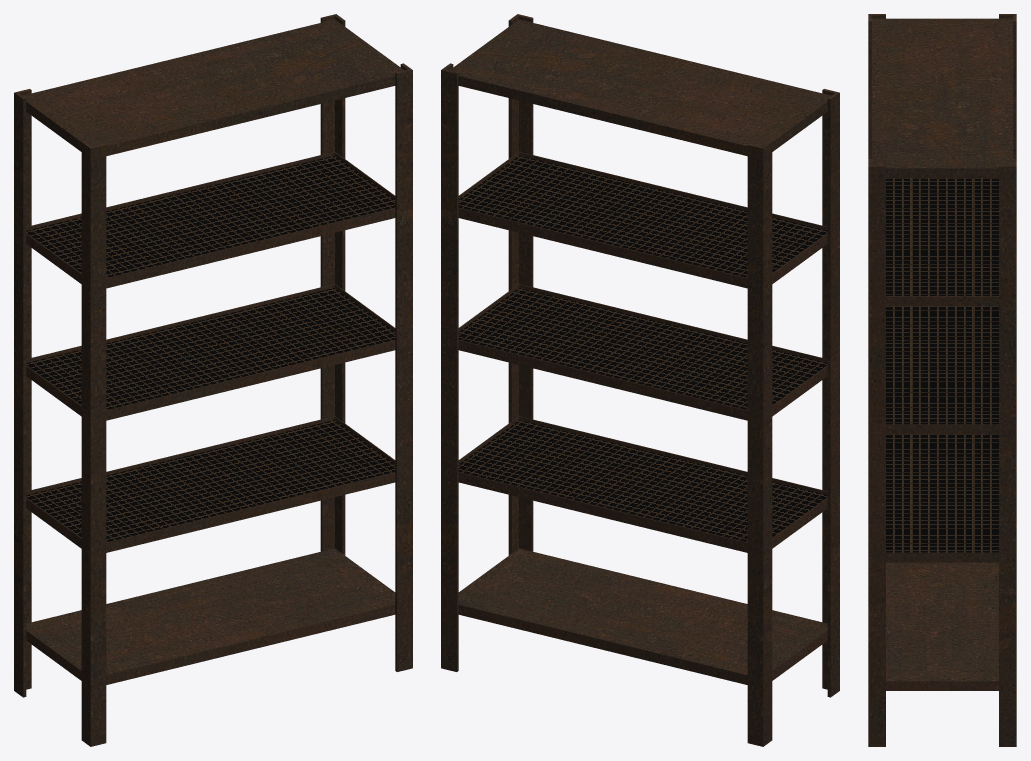
The model's file is shelf_mx_6.glb.
3 renders of one model, left to right at view 1: azimuth 30°, elevation 25°; view 2: azimuth 150°, elevation 25°; view 3: azimuth 270°, elevation 25°, orthographic. The views are drawn at different scales.
Parts seen in each view (by area): view 1: shelf_mx_6; view 2: shelf_mx_6; view 3: shelf_mx_6.
Boxes of the visible parts, x1=… form: shelf_mx_6: x1=14, y1=14, x2=412, y2=746; shelf_mx_6: x1=441, y1=14, x2=839, y2=746; shelf_mx_6: x1=868, y1=14, x2=1016, y2=746.
Bounding box in the file's own units: 1.02 × 1.81 × 0.42.
2 materials, 2 textured.
